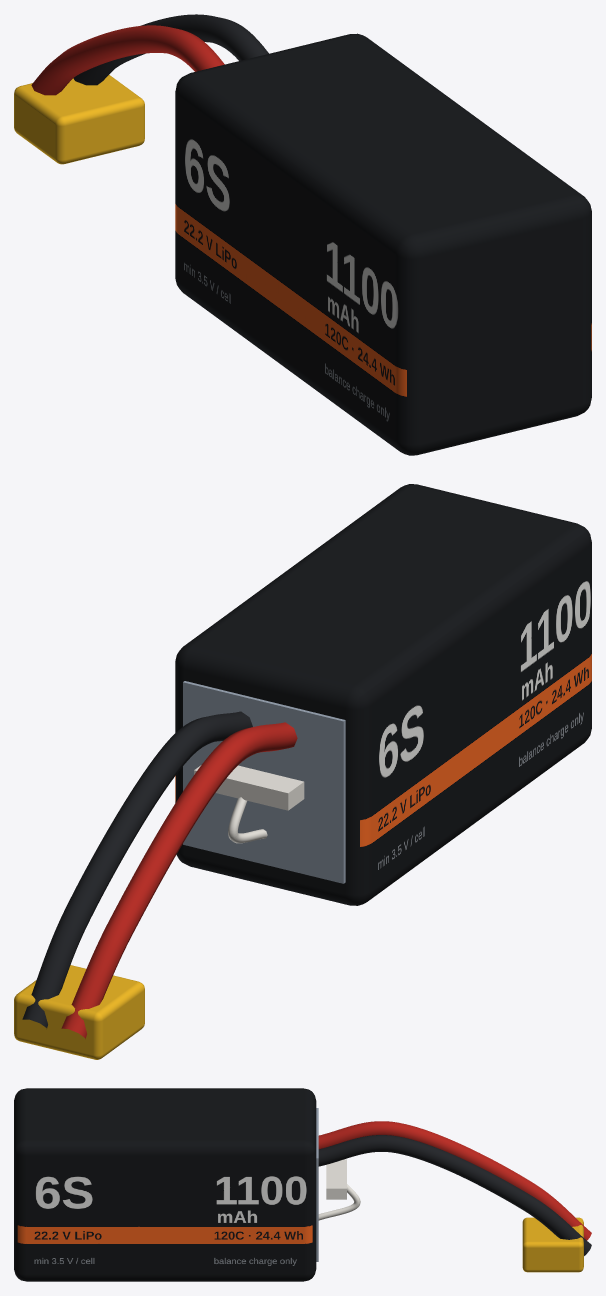
Rendered from battery.glb.
The picture shows the model from 3 angles, top to bottom: view 1: azimuth 30°, elevation 25°; view 2: azimuth 150°, elevation 25°; view 3: azimuth 270°, elevation 25°; orthographic projection. The views are drawn at different scales.
Parts seen in each view (by area): view 1: LiPo pack, XT60 female, Battery lead +, Battery lead -; view 2: LiPo pack, Cell end tape, Battery lead +, Battery lead -, XT60 female, Balance plug, Balance lead; view 3: LiPo pack, Battery lead -, Battery lead +, XT60 female, Balance plug, Cell end tape, Balance lead.
Boxes of the visible parts, box(x1,y1,x2,y2) form: LiPo pack: box(175, 33, 591, 455); XT60 female: box(14, 75, 144, 164); Battery lead +: box(31, 25, 224, 95); Battery lead -: box(73, 14, 268, 85); LiPo pack: box(175, 484, 591, 905); Cell end tape: box(183, 681, 345, 883); Battery lead +: box(61, 722, 297, 1038); Battery lead -: box(22, 711, 252, 1028); XT60 female: box(14, 965, 144, 1059); Balance plug: box(194, 765, 304, 810); Balance lead: box(228, 797, 267, 843); LiPo pack: box(14, 1088, 316, 1281); Battery lead -: box(318, 1135, 591, 1255); Battery lead +: box(318, 1121, 591, 1240); XT60 female: box(522, 1217, 583, 1272); Balance plug: box(326, 1159, 346, 1199); Cell end tape: box(316, 1108, 318, 1261); Balance lead: box(318, 1184, 360, 1220).
Size of the model in its own units: 0.035 by 0.0393 by 0.1415.
Materials: 12 (2 with a texture image).
